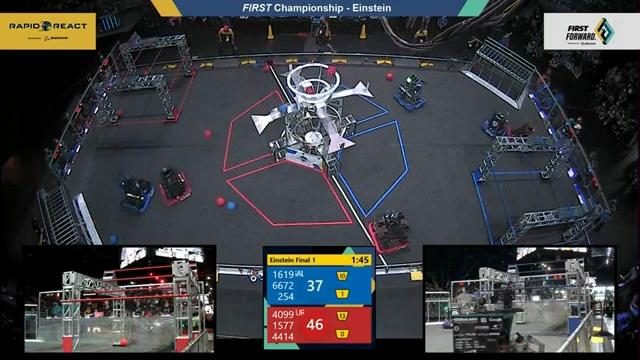robot: (363, 207, 415, 258), (112, 169, 156, 219), (155, 164, 195, 212), (389, 74, 429, 118), (503, 116, 536, 158), (472, 109, 508, 142)
